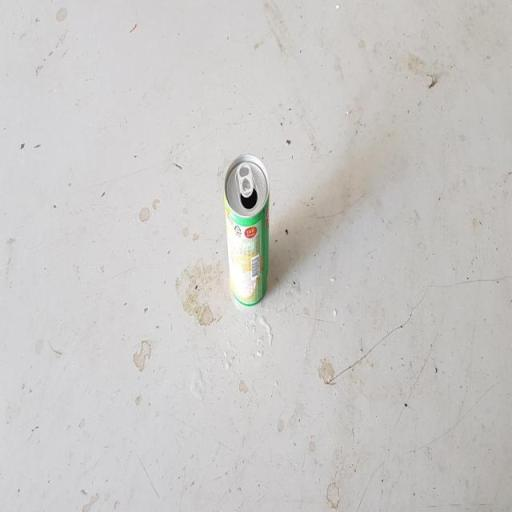metal: (220, 150, 278, 315)
